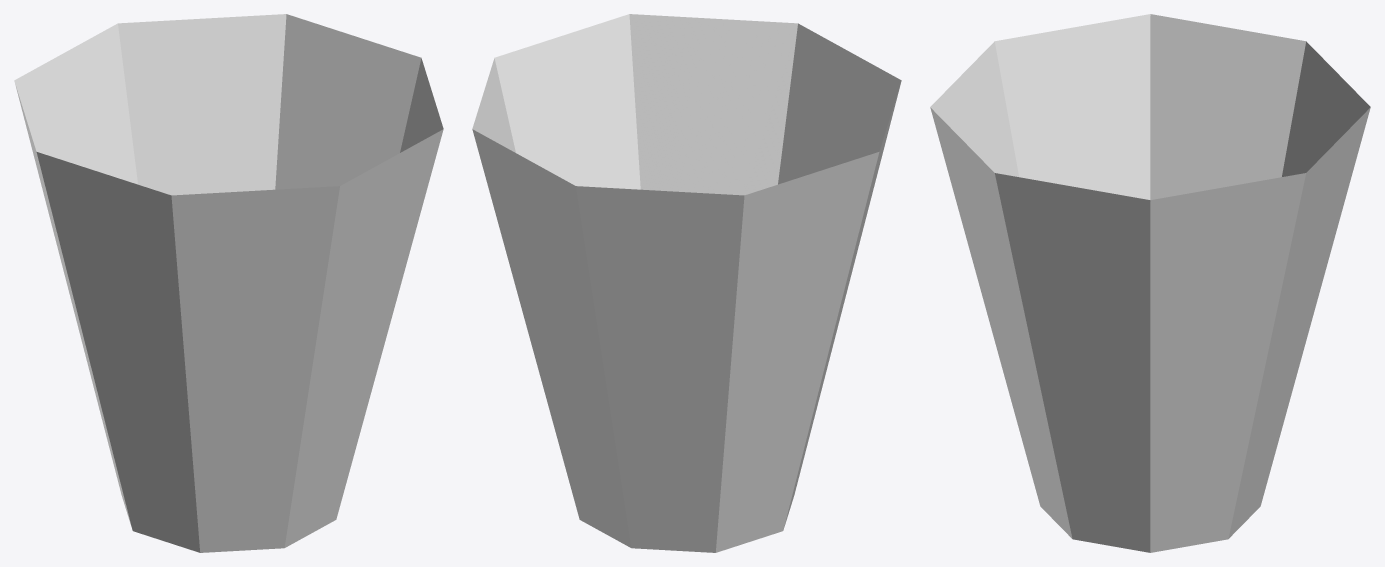
The model's file is Luz_Mesh.fbx.
3 renders of one model, left to right at view 1: azimuth 30°, elevation 25°; view 2: azimuth 150°, elevation 25°; view 3: azimuth 270°, elevation 25°, orthographic.
Parts seen in each view (by area): view 1: Cylinder; view 2: Cylinder; view 3: Cylinder.
Boxes of the visible parts, x1,y1,x2,y2 form: Cylinder: [14, 14, 443, 552]; Cylinder: [472, 14, 901, 552]; Cylinder: [930, 14, 1370, 552].
Size of the model in its own units: 400 by 400 by 400.
Materials: 1 (1 with a texture image).
